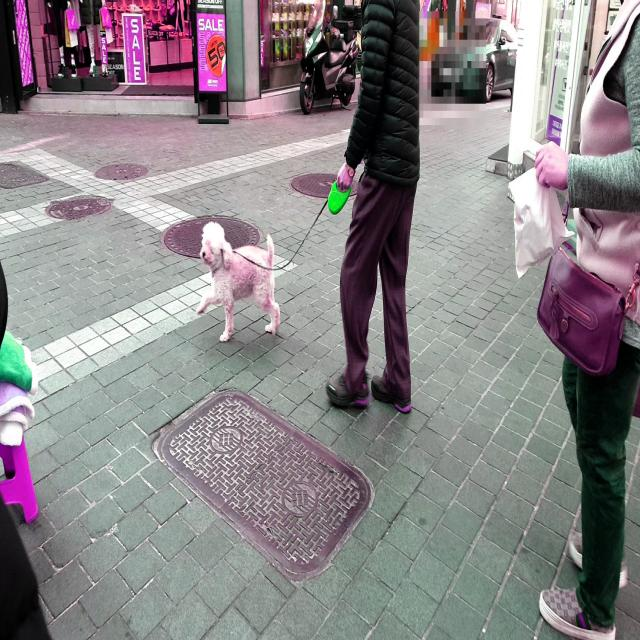Leashed_Dog: (198, 165, 368, 342)
